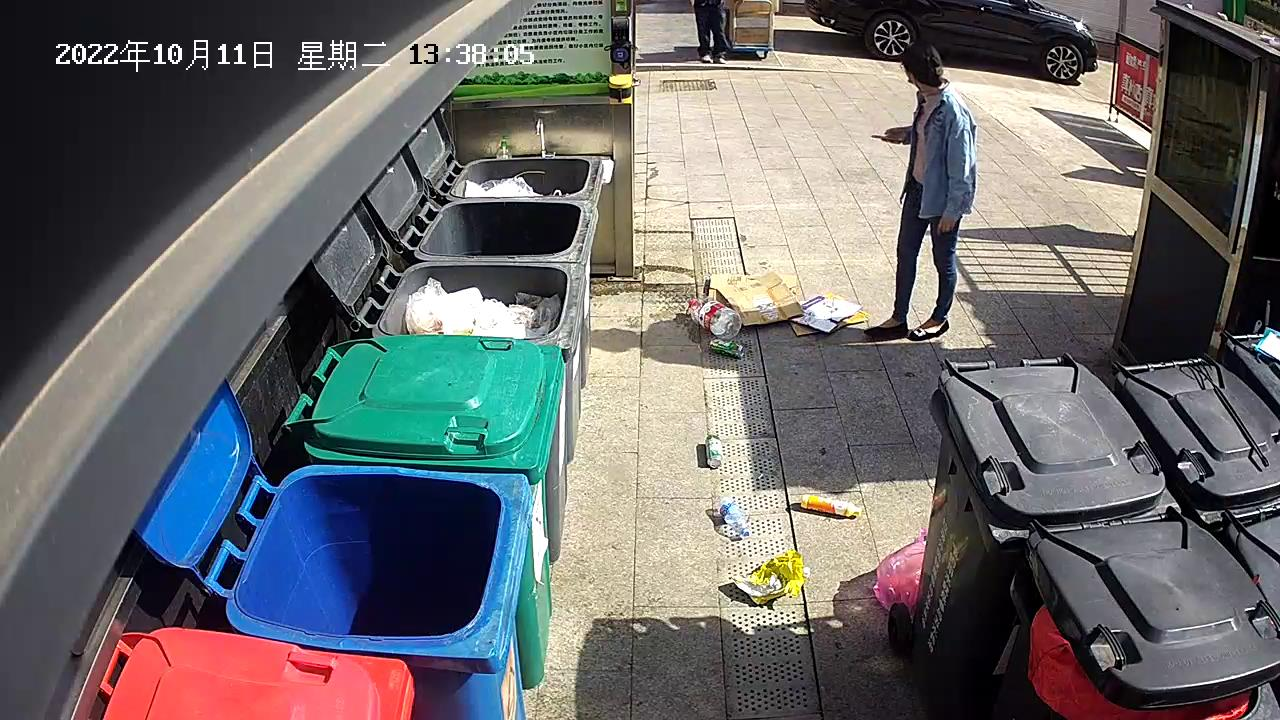garbage: (726, 547, 815, 610)
garbage-bag: (869, 521, 942, 608)
lvzhipin: (705, 334, 747, 363), (703, 429, 725, 473)
suliaozhipin: (684, 293, 748, 341), (797, 490, 865, 525), (716, 492, 757, 544)
worker: (860, 37, 983, 346)
zhizhipin: (704, 269, 807, 329), (786, 290, 875, 340)
